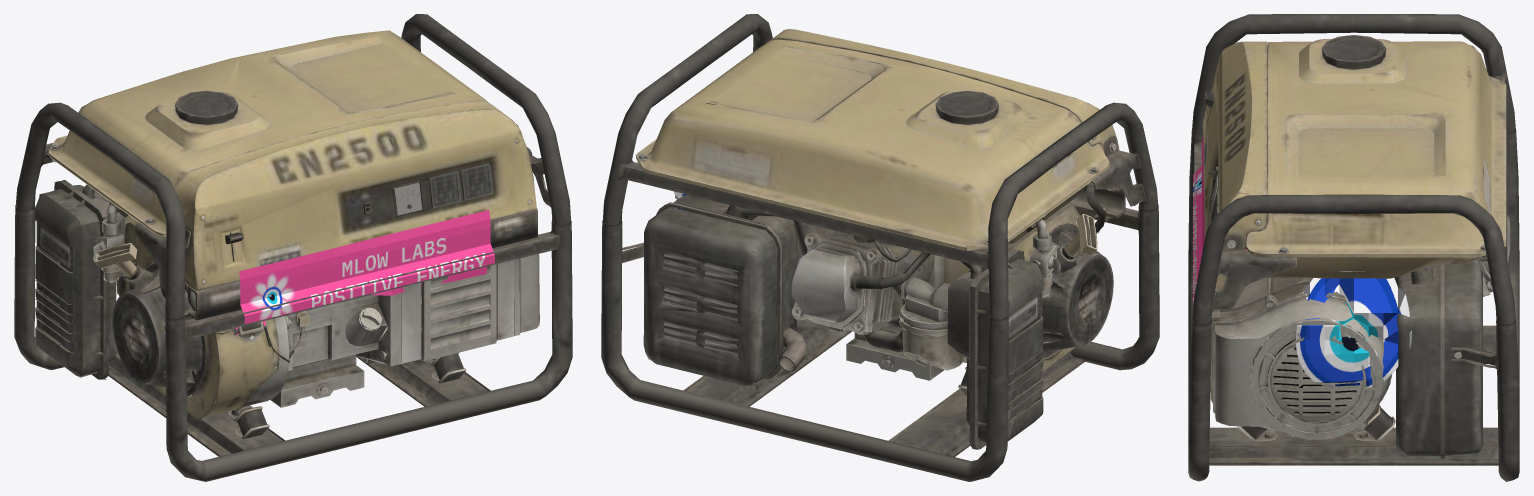
The model's file is nyb_sw_generator.glb.
3 views of the same model, side by side, from view 1: azimuth 30°, elevation 25°; view 2: azimuth 150°, elevation 25°; view 3: azimuth 270°, elevation 25° (orthographic).
Visible parts, largest first — view 1: portable_generator, stk_lbl_5262febcef.png; view 2: portable_generator; view 3: portable_generator, stk_nazar_die.png, stk_lbl_5262febcef.png.
Part boxes in pixels (<box>): portable_generator: <box>14,14,572,481</box>; stk_lbl_5262febcef.png: <box>236,210,494,334</box>; portable_generator: <box>601,14,1159,481</box>; portable_generator: <box>1188,14,1519,481</box>; stk_nazar_die.png: <box>1296,271,1411,390</box>; stk_lbl_5262febcef.png: <box>1193,134,1246,304</box>.
Size of the model in its own units: 0.8182 by 0.5761 by 0.5642.
Materials: 4 (4 with a texture image).
